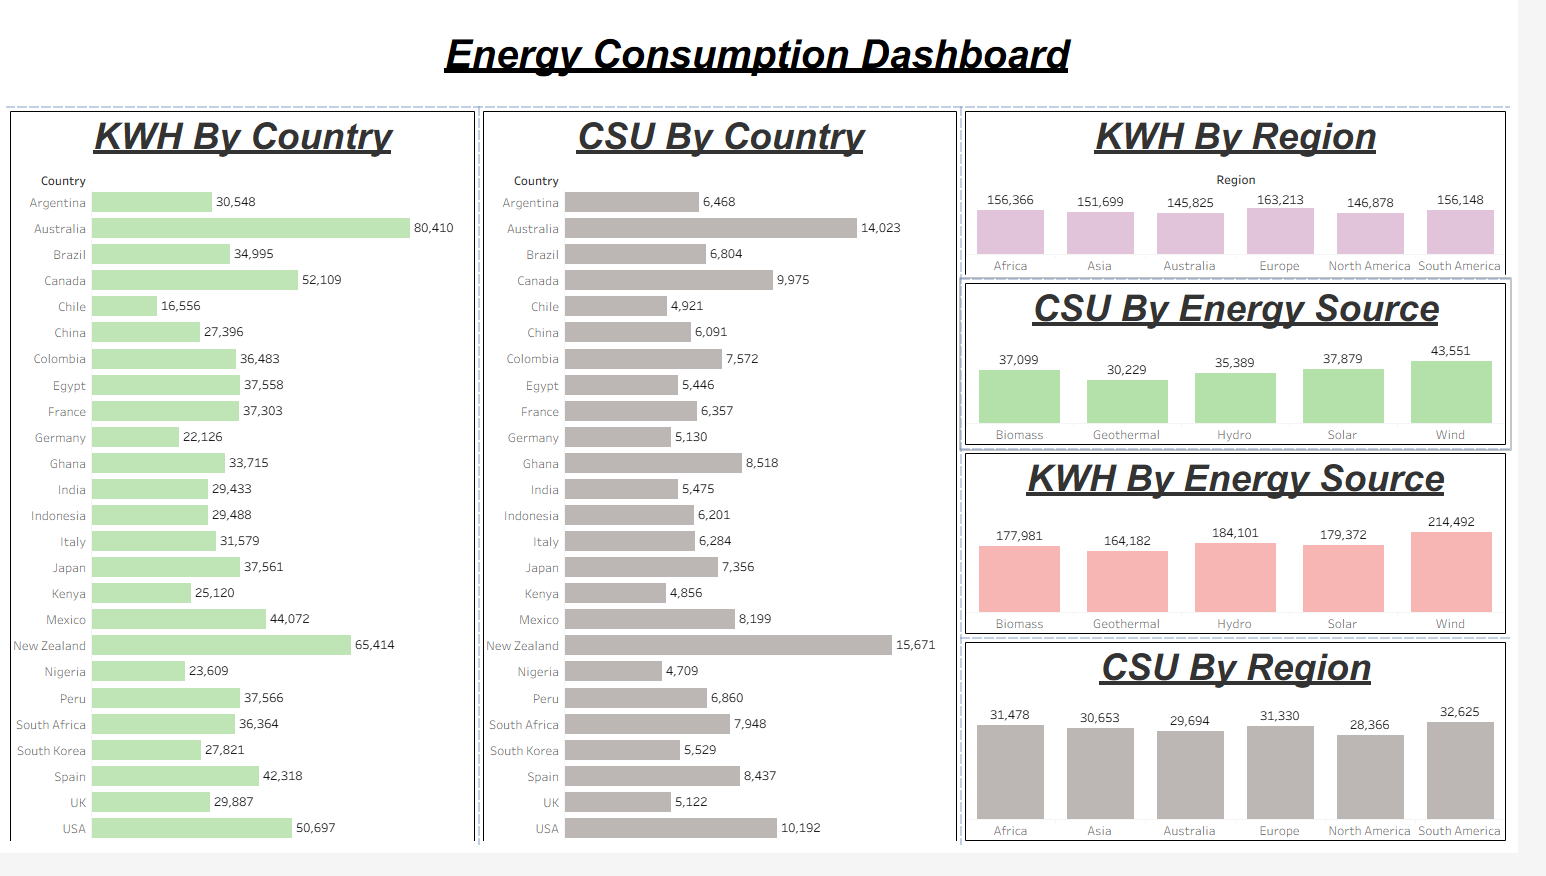

The page's visual inventory and layout, read from the dashboard file:
{"tool":"tableau","page":{"name":"Tableau Dashoboard","canvas":[1000,1000],"units":"permille","ordinal":0},"visuals":[{"type":"text","box":[5.3,9.3,989.5,122.7]},{"type":"worksheet","title":"KWH By Country","mark":"Automatic","rows":["COUNTRY"],"cols":["MONTHLY_USAGE_KWH"],"box":[5.3,132,311.2,858.7]},{"type":"worksheet","title":"CSU By Country","mark":"Automatic","rows":["COUNTRY"],"cols":["COST_SAVINGS_USD"],"box":[316.4,132,317.1,858.7]},{"type":"worksheet","title":"KWH By Region","mark":"Automatic","rows":["MONTHLY_USAGE_KWH"],"cols":["REGION"],"box":[633.6,132,361.2,200.6]},{"type":"worksheet","title":"CSU By Energy Source","mark":"Automatic","rows":["COST_SAVINGS_USD"],"cols":["ENERGY_SOURCE"],"box":[633.6,332.6,361.2,230.2]},{"type":"worksheet","title":"KWH By Energy Source","mark":"Automatic","rows":["MONTHLY_USAGE_KWH"],"cols":["ENERGY_SOURCE"],"box":[633.6,562.8,361.2,211.6]},{"type":"worksheet","title":"CSU By Region","mark":"Automatic","rows":["COST_SAVINGS_USD"],"cols":["REGION"],"box":[633.6,774.4,361.2,216.3]}]}

Visuals, with their boxes on the dashboard's canvas, which has no fixed pixel size, in thousandths of its width and height (x1, y1, x2, y2). These are canvas units, not pixel positions in the 1546x876 screenshot, which may show the page scaled, cropped or inside an application window:
text: <bbox>5, 9, 995, 132</bbox>
"KWH By Country" worksheet: <bbox>5, 132, 316, 991</bbox>
"CSU By Country" worksheet: <bbox>316, 132, 634, 991</bbox>
"KWH By Region" worksheet: <bbox>634, 132, 995, 333</bbox>
"CSU By Energy Source" worksheet: <bbox>634, 333, 995, 563</bbox>
"KWH By Energy Source" worksheet: <bbox>634, 563, 995, 774</bbox>
"CSU By Region" worksheet: <bbox>634, 774, 995, 991</bbox>
